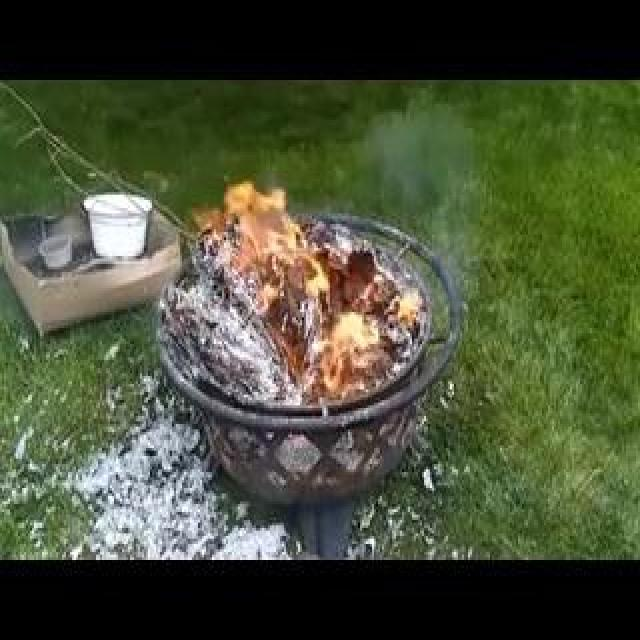Fire: (222, 248, 287, 278)
